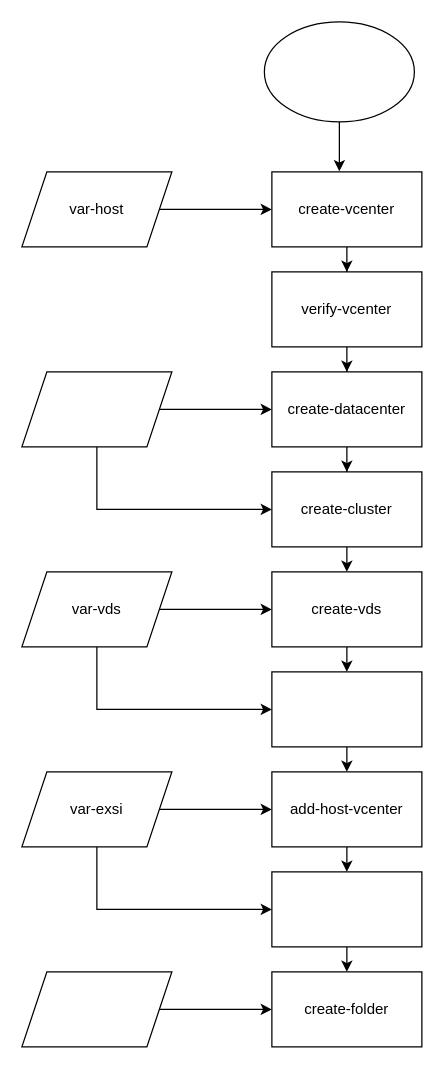
Some shapes in this 444 by 1069 pixel diagram are drawn without their labels. The shapes that lost their labels are listed below. From the top down, each one's box as (x1, y1, x2, y2) in pixels, then its label:
(263, 21, 414, 122): ansible-playbook
(21, 371, 172, 447): var-vcenter
(271, 671, 422, 747): create-portgroup
(271, 871, 422, 947): add-host-vds
(21, 971, 172, 1047): var-folder
